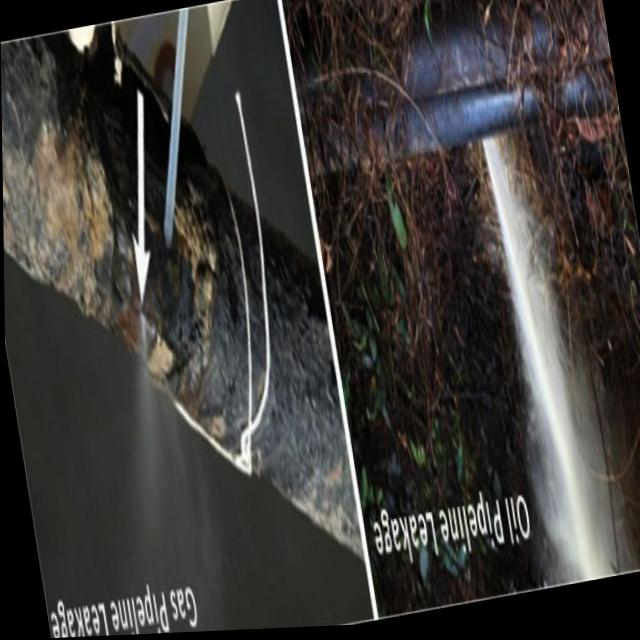leak: (475, 144, 640, 595), (112, 324, 218, 635)
